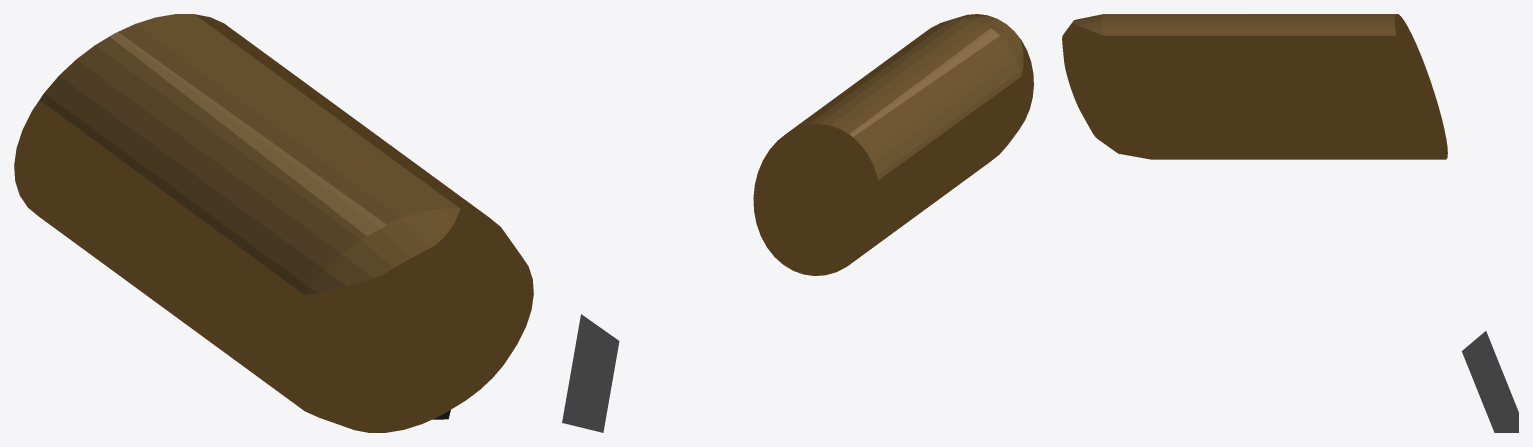
The model's file is pineapple_270.glb.
3 renders of one model, left to right at view 1: azimuth 30°, elevation 25°; view 2: azimuth 150°, elevation 25°; view 3: azimuth 270°, elevation 25°, orthographic. The views are drawn at different scales.
Visible parts, largest first — view 1: pineapple_270; view 2: pineapple_270; view 3: pineapple_270.
Boxes of the visible parts, left/top/right/bottom form: pineapple_270: left=14, top=14, right=533, bottom=432; pineapple_270: left=562, top=14, right=1033, bottom=432; pineapple_270: left=1062, top=14, right=1518, bottom=432.
Size of the model in its own units: 13 by 14 by 18.74.
